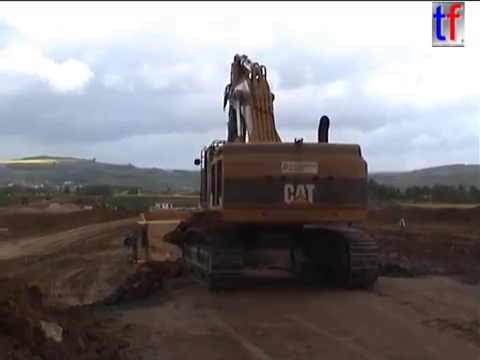excavator: (178, 50, 385, 292), (88, 193, 112, 213)
truck: (121, 209, 286, 293), (17, 194, 33, 209), (42, 193, 54, 202)
worker: (396, 214, 408, 235)
